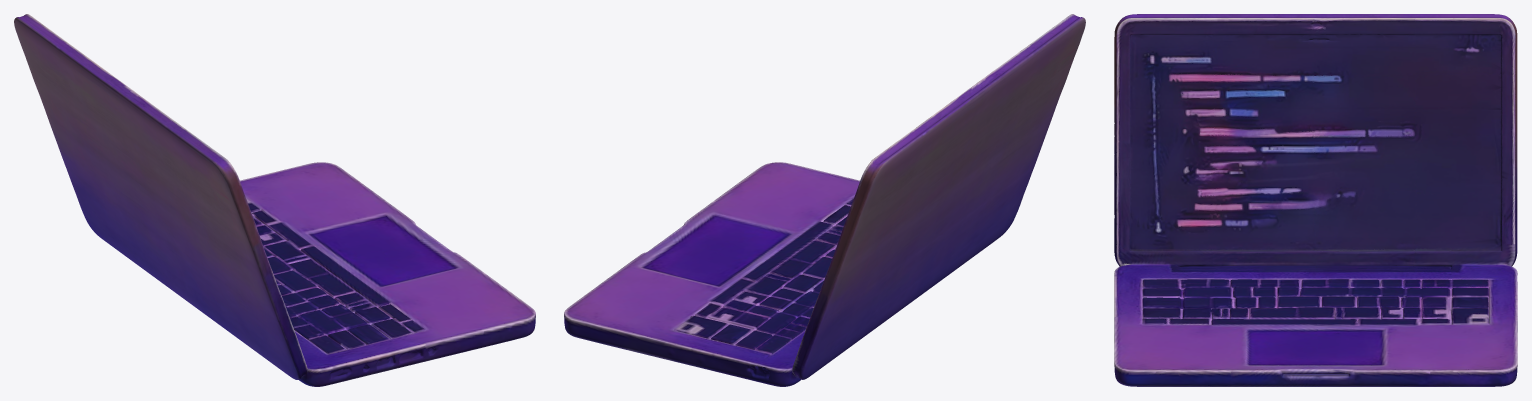
File: laptop.glb
3 renders of one model, left to right at view 1: azimuth 30°, elevation 25°; view 2: azimuth 150°, elevation 25°; view 3: azimuth 270°, elevation 25°, orthographic. The views are drawn at different scales.
Parts seen in each view (by area): view 1: tripo_node_51ba3e41-288b-4b0e-86e6-8c6cfcd40c59; view 2: tripo_node_51ba3e41-288b-4b0e-86e6-8c6cfcd40c59; view 3: tripo_node_51ba3e41-288b-4b0e-86e6-8c6cfcd40c59.
Part boxes in pixels (box(x1,y1,x2,y2)): tripo_node_51ba3e41-288b-4b0e-86e6-8c6cfcd40c59: box(14, 14, 535, 386); tripo_node_51ba3e41-288b-4b0e-86e6-8c6cfcd40c59: box(564, 14, 1085, 386); tripo_node_51ba3e41-288b-4b0e-86e6-8c6cfcd40c59: box(1114, 14, 1517, 386).
Bounding box in the file's own units: 0.8593 × 0.6317 × 0.9999.
1 material, 1 textured.
